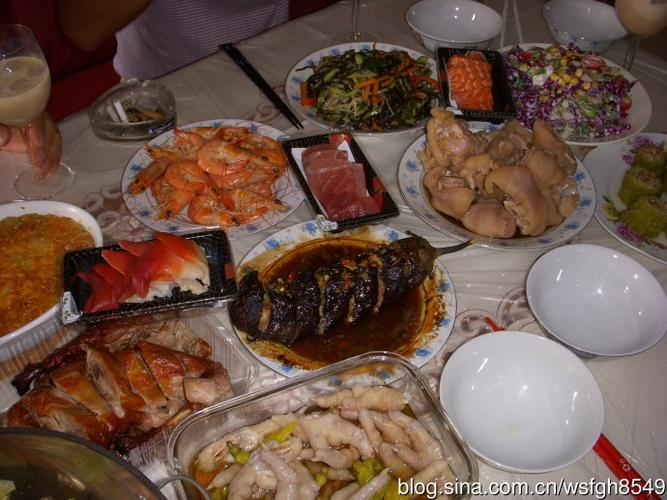food: (172, 360, 455, 495), (221, 211, 449, 369), (21, 297, 236, 449), (439, 326, 617, 473), (110, 113, 317, 238), (402, 106, 587, 242), (287, 31, 457, 141), (495, 35, 650, 144), (523, 240, 661, 356), (0, 191, 98, 353), (599, 132, 663, 248), (432, 41, 514, 119)
